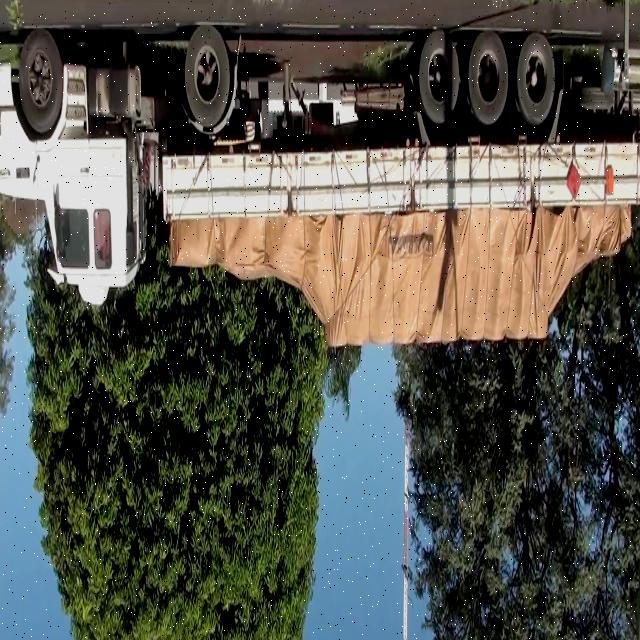-axle: (19, 27, 62, 134), (186, 27, 229, 128), (468, 32, 509, 127), (418, 35, 460, 126), (515, 34, 555, 125)
